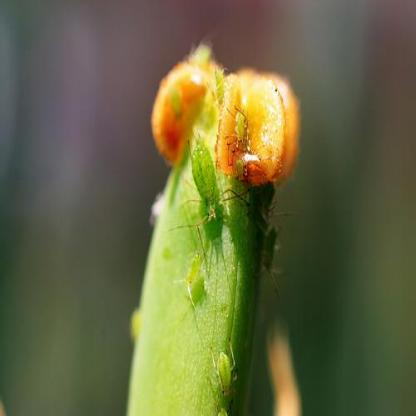aphid: (184, 134, 224, 226), (260, 188, 284, 278), (209, 341, 240, 392), (230, 100, 254, 152), (182, 244, 206, 293), (210, 62, 228, 107)
